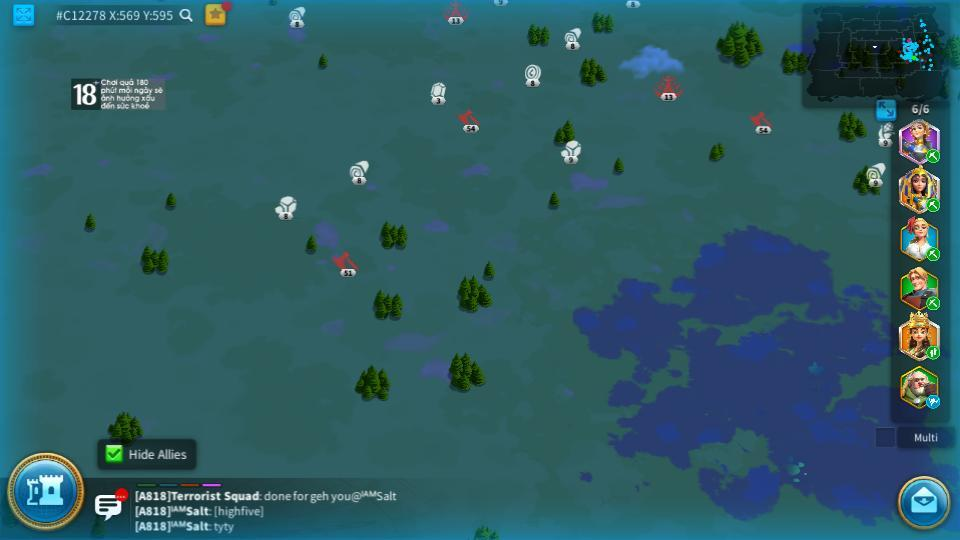gem-z-out: (429, 81, 446, 103)
march_idle: (925, 396, 942, 408)
march_marching: (925, 197, 941, 212), (925, 345, 941, 359), (925, 297, 942, 309), (925, 150, 942, 162)
